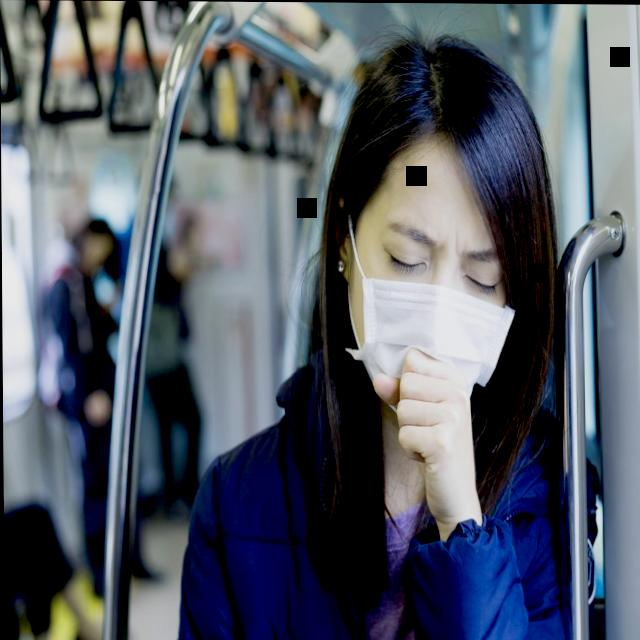Mask: (321, 30, 549, 421)
